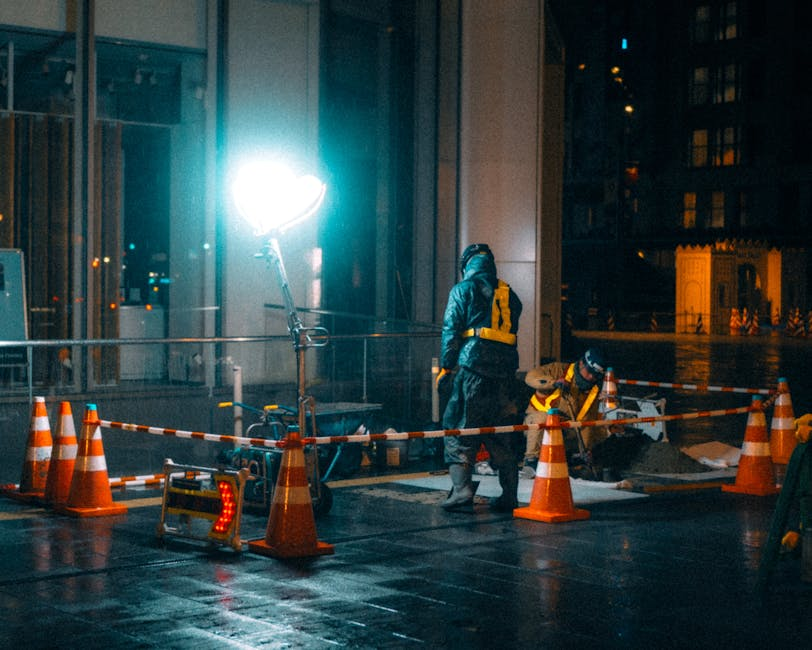traffic_cone: (247, 424, 335, 560), (512, 407, 591, 523), (62, 403, 128, 518), (720, 395, 781, 496), (1, 395, 55, 504), (37, 400, 80, 512), (769, 376, 798, 465), (597, 366, 625, 436)
